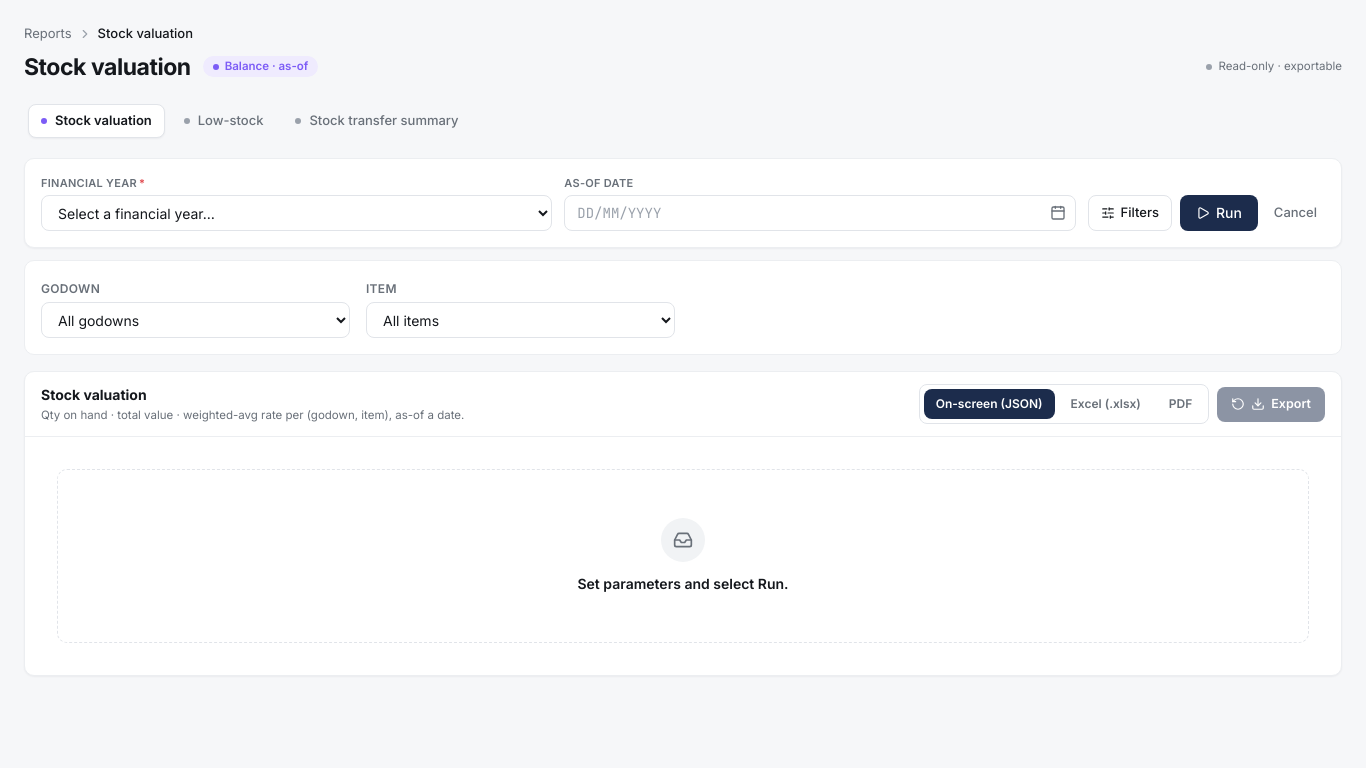
Test: Permission-denied — 403 view + Export disabled (FR-RPT-007) › shows the 'don't have access' body and disables Export when the server returns 403
This screenshot has width=1366, height=768.
Type "30/06/2026" into the field.
click(820, 213); type("30/06/2026")  # box [564, 195, 1076, 231]
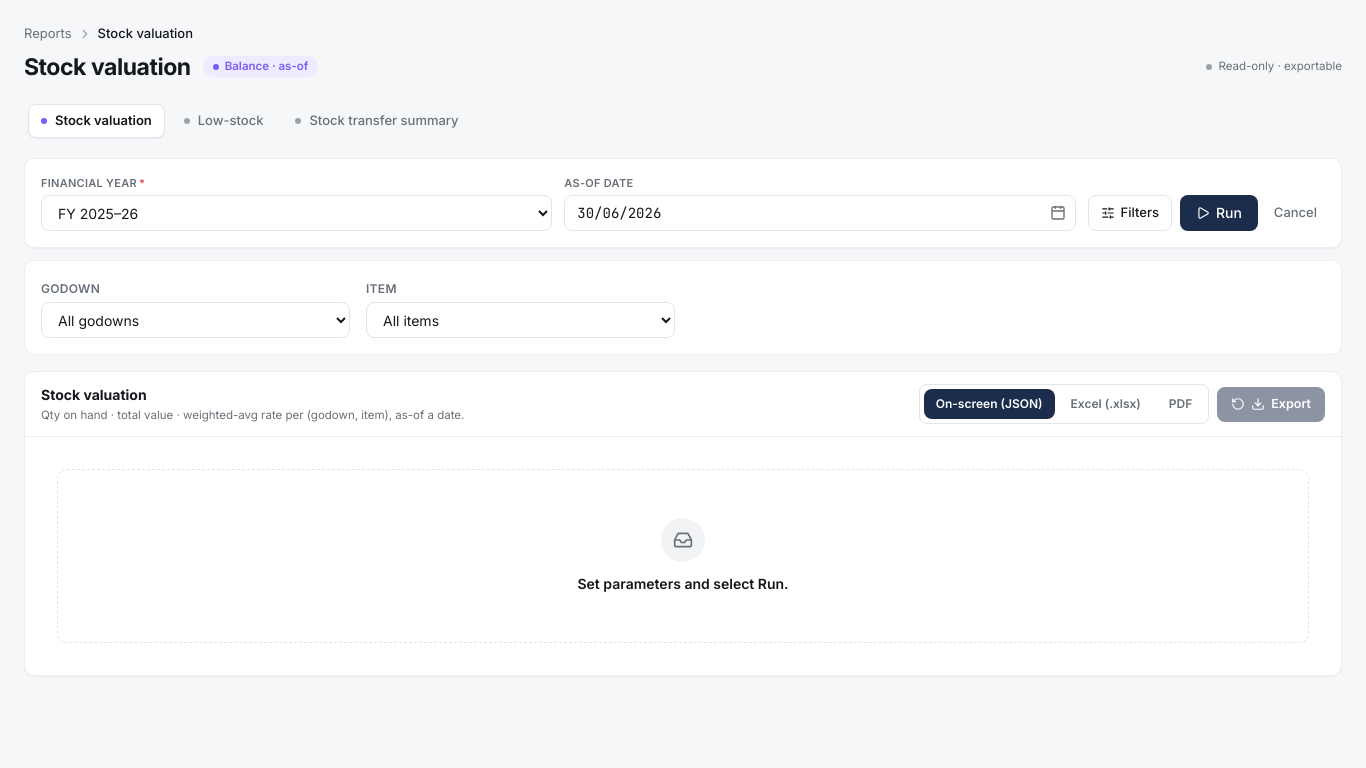
Click the button with test id "report-run".
click(1219, 213)  # box [1180, 195, 1258, 231]
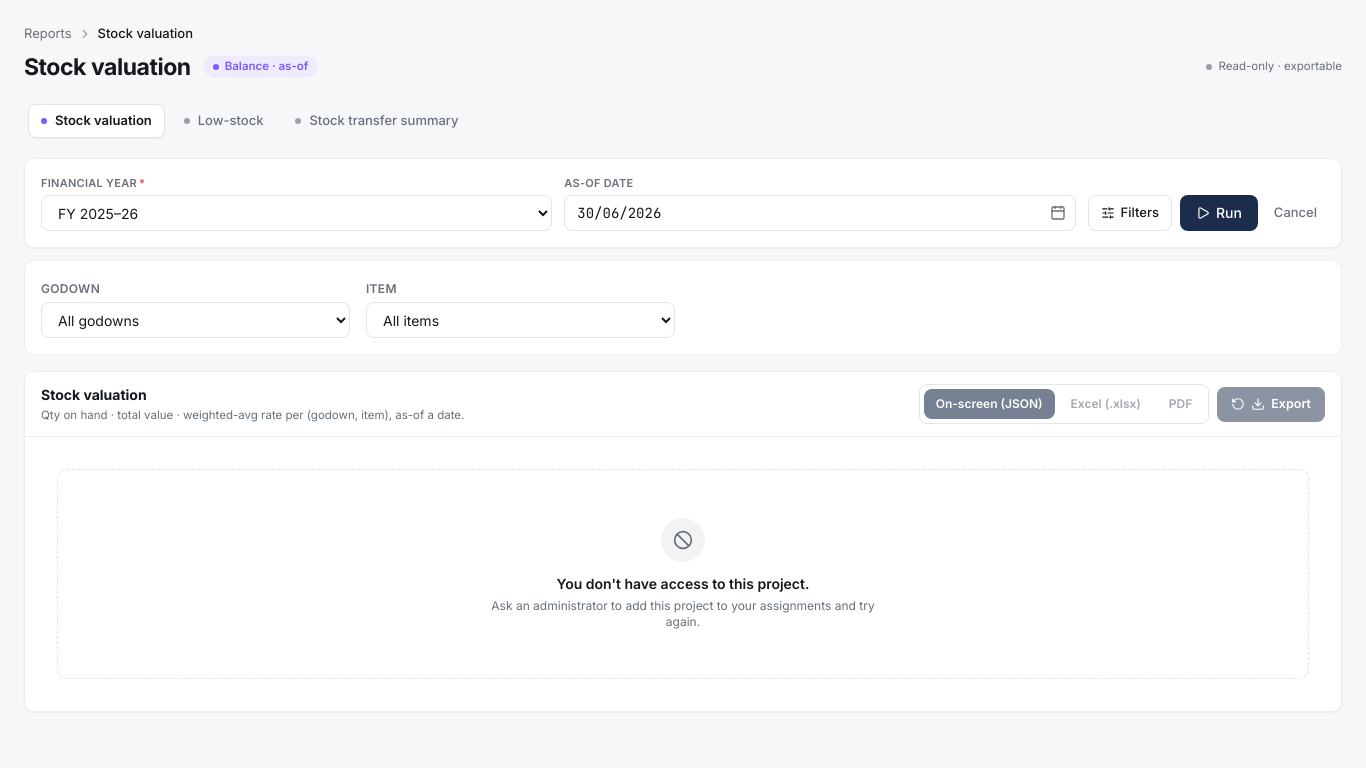
Expected: the element with test id "iv-forbidden" is shown, [25, 437, 1341, 711]
Expected: the element with test id "iv-forbidden" shows "don't have access", [557, 575, 810, 592]
Expected: the radio button with test id "report-export-excel" is disabled, [1059, 389, 1153, 419]
